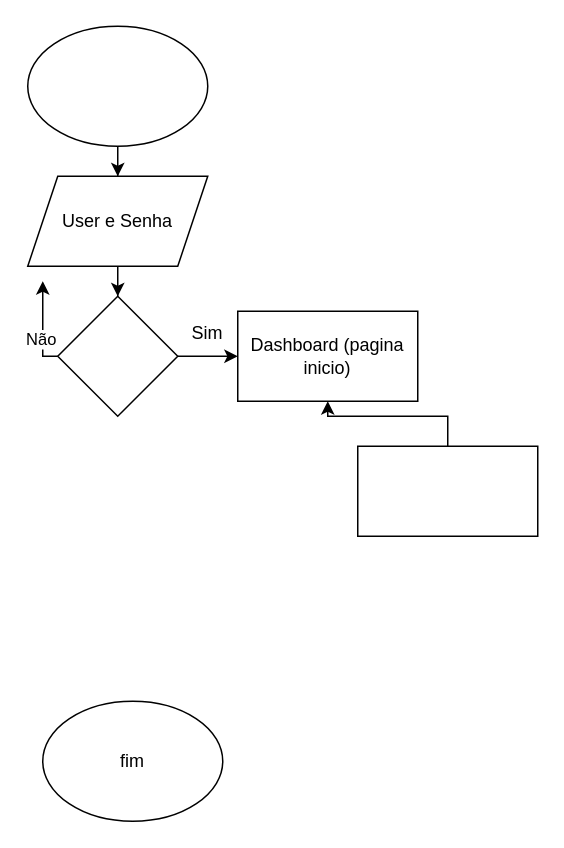
This 564x848 diagram has some shape labels left out. The shapes that lost their labels are listed below. From the top down, each one's centre as x and y in pixels, then its label:
At (117,85): "inicio".
At (117,355): "Autenticado?".
